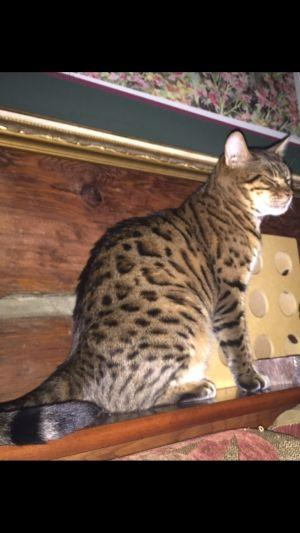bengal: (207, 118, 300, 232)
